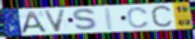A: (20, 10, 48, 35)
C: (150, 4, 175, 30), (126, 6, 151, 29)
I: (103, 6, 115, 31)
S: (72, 8, 101, 32)
V: (42, 9, 68, 33)
